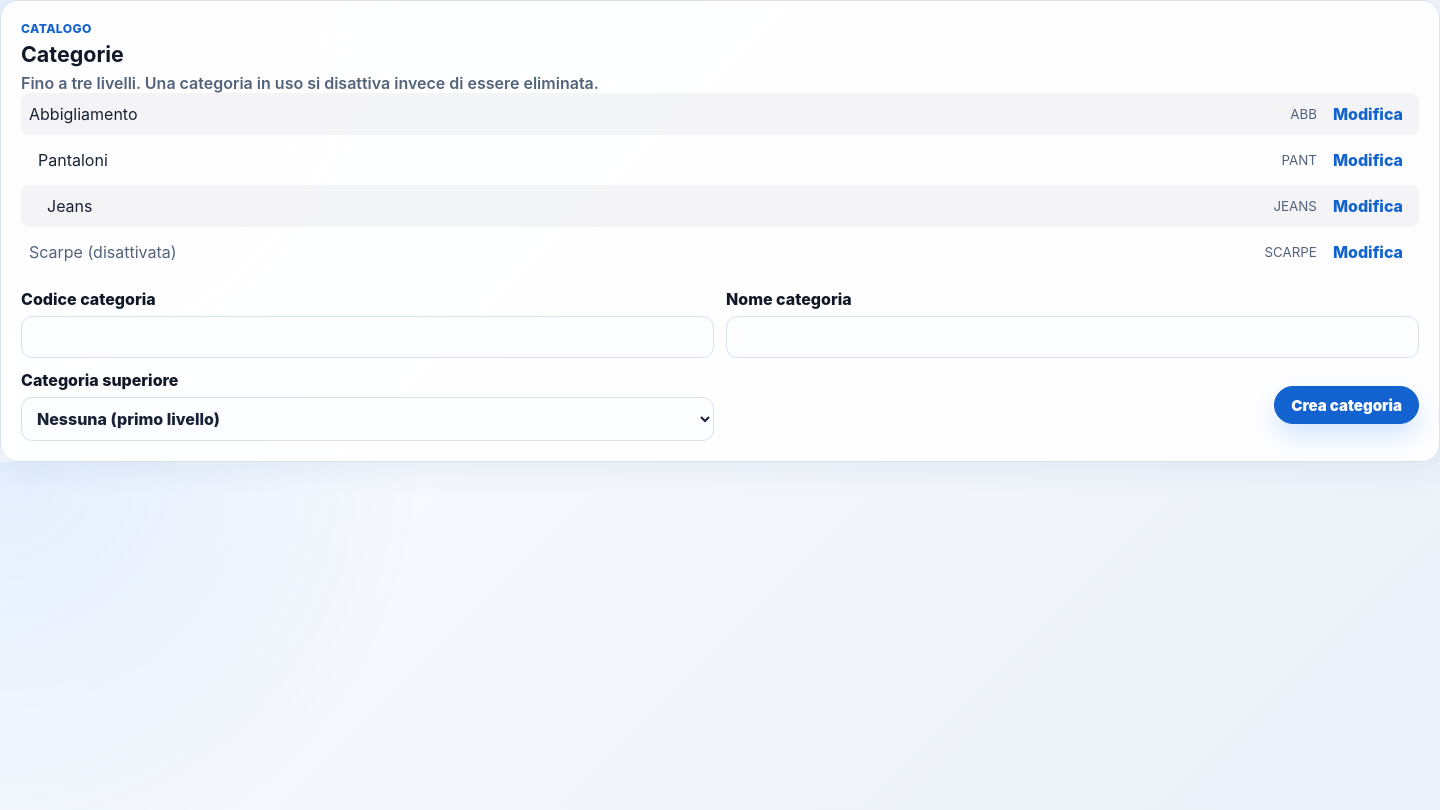
Scenario: CategoryManager › crea una sottocategoria e conferma con il percorso
Type "GONNE" into the field labelled "Codice categoria". click: (368, 337)
box: [21,316,714,358]
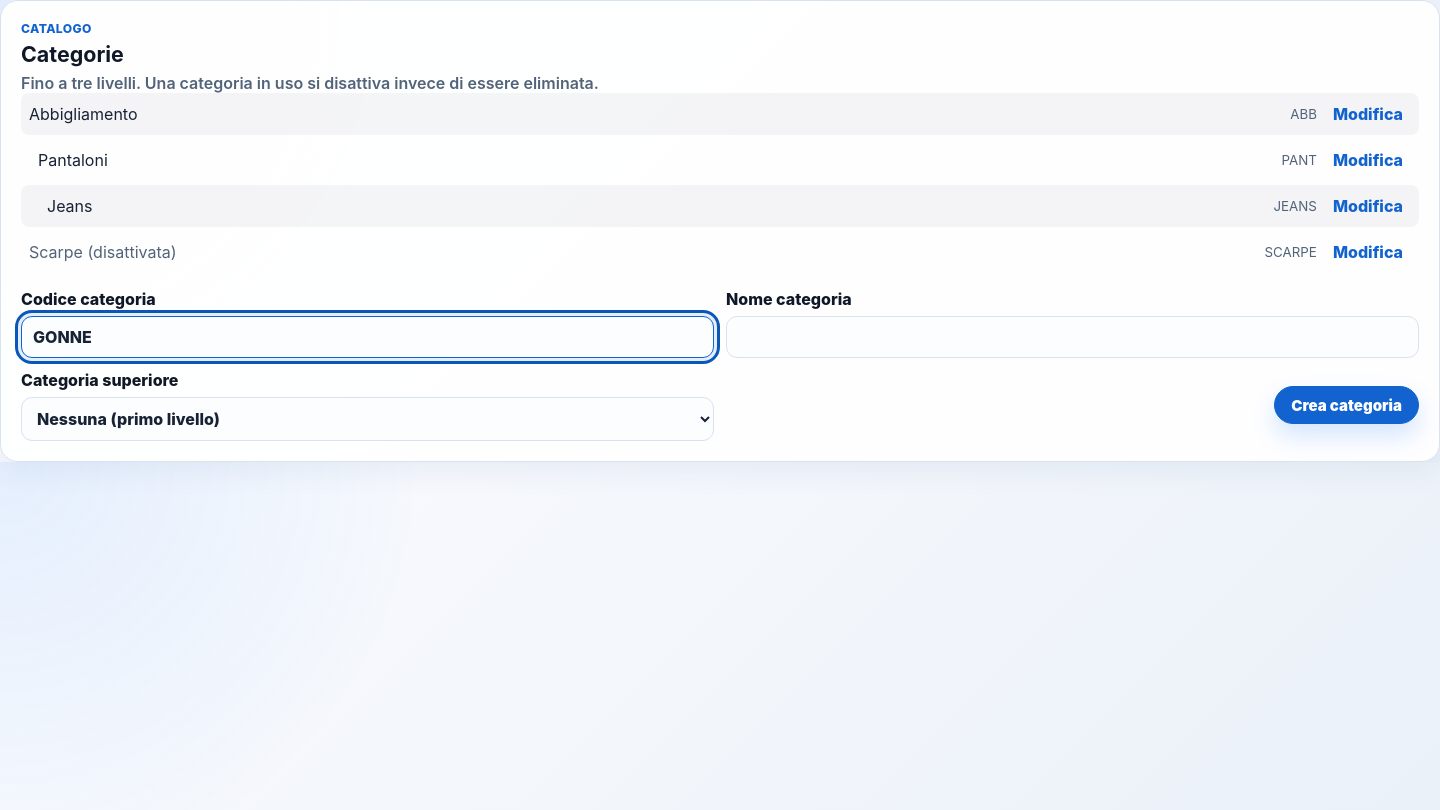
Type "Gonne" into the field labelled "Nome categoria". click: (1072, 337)
box: [726,316,1419,358]
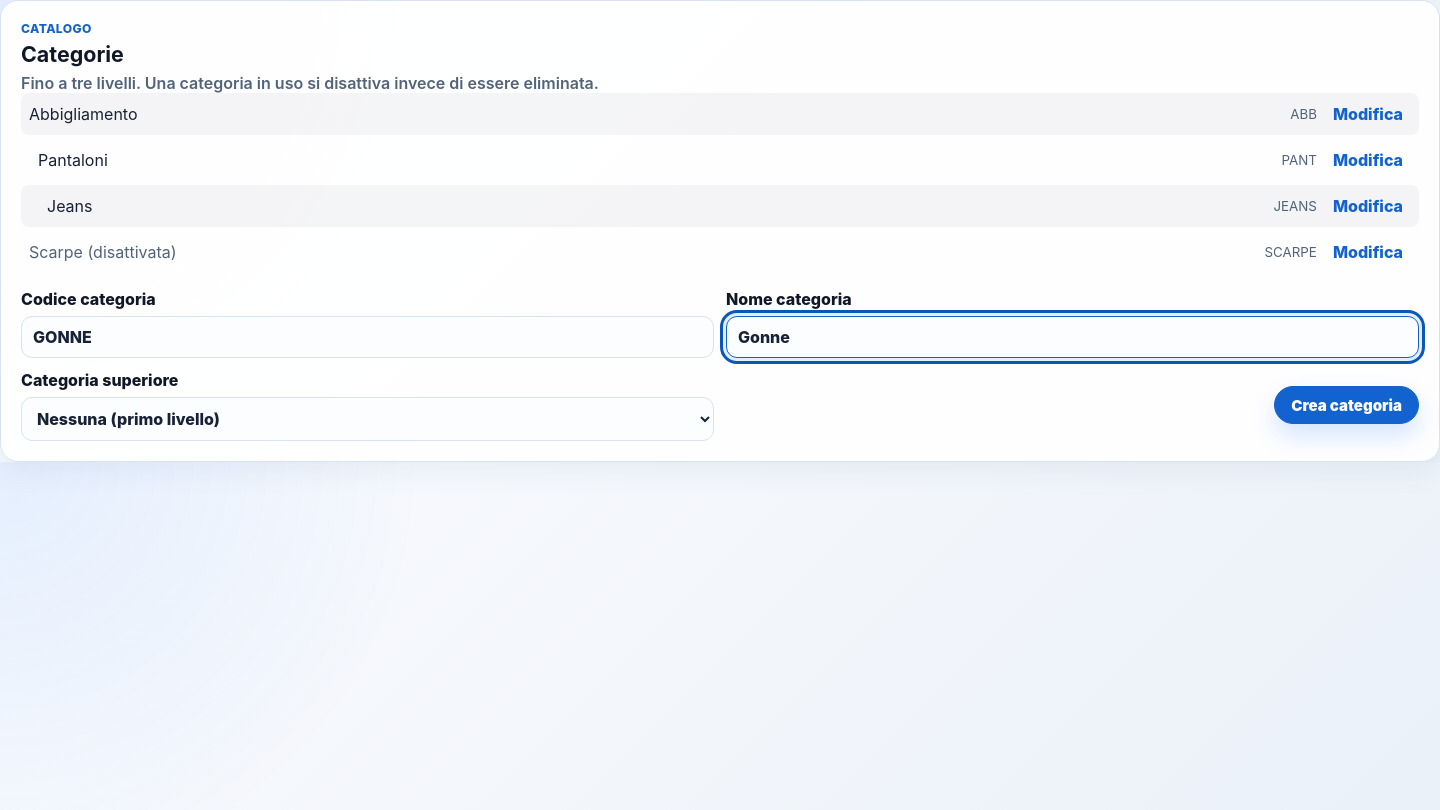
Select "Abbigliamento" in the dropdown labelled "Categoria superiore". click: (368, 419)
box: [21,397,714,441]
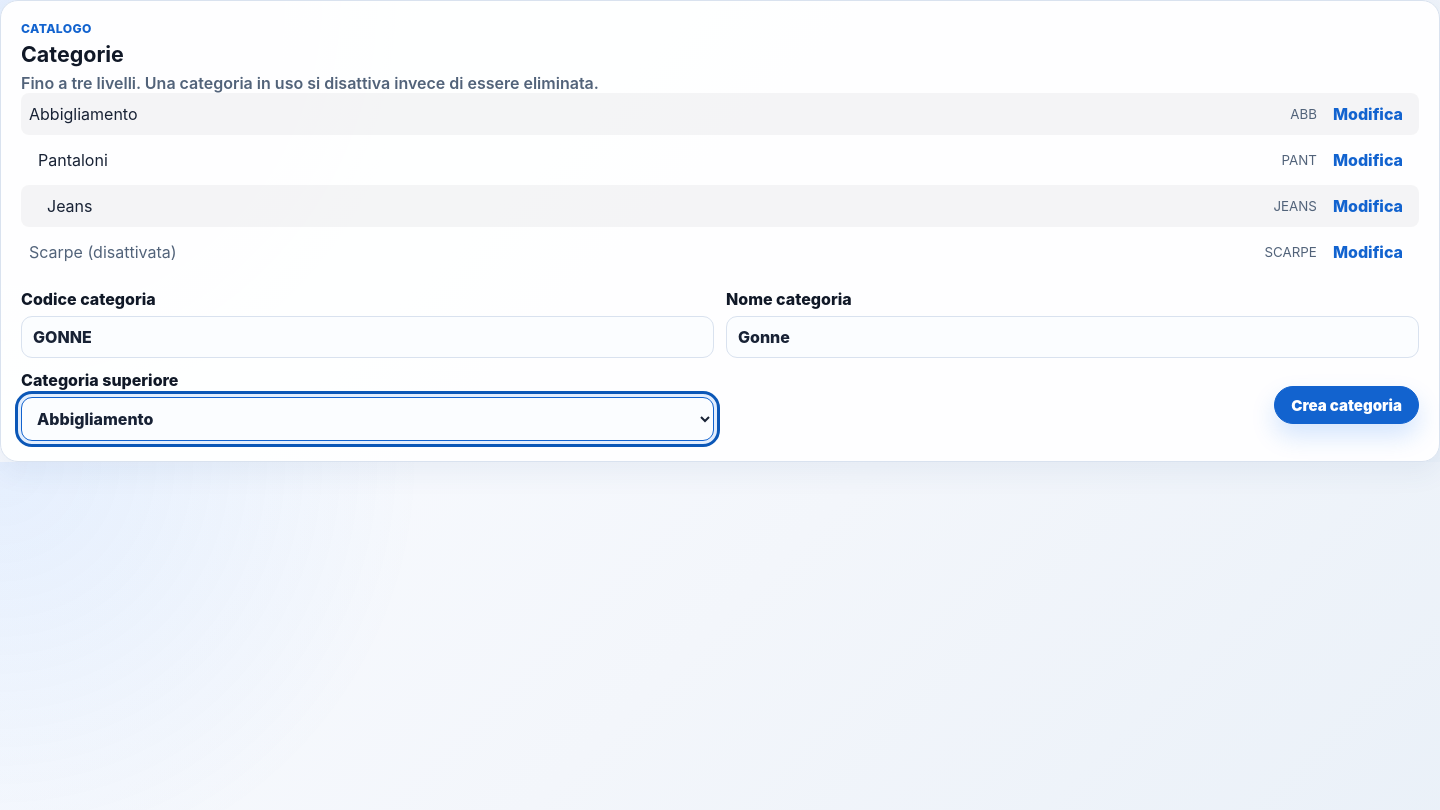
Click the button "Crea categoria". click: click(1347, 405)
box: [1274,386,1419,424]
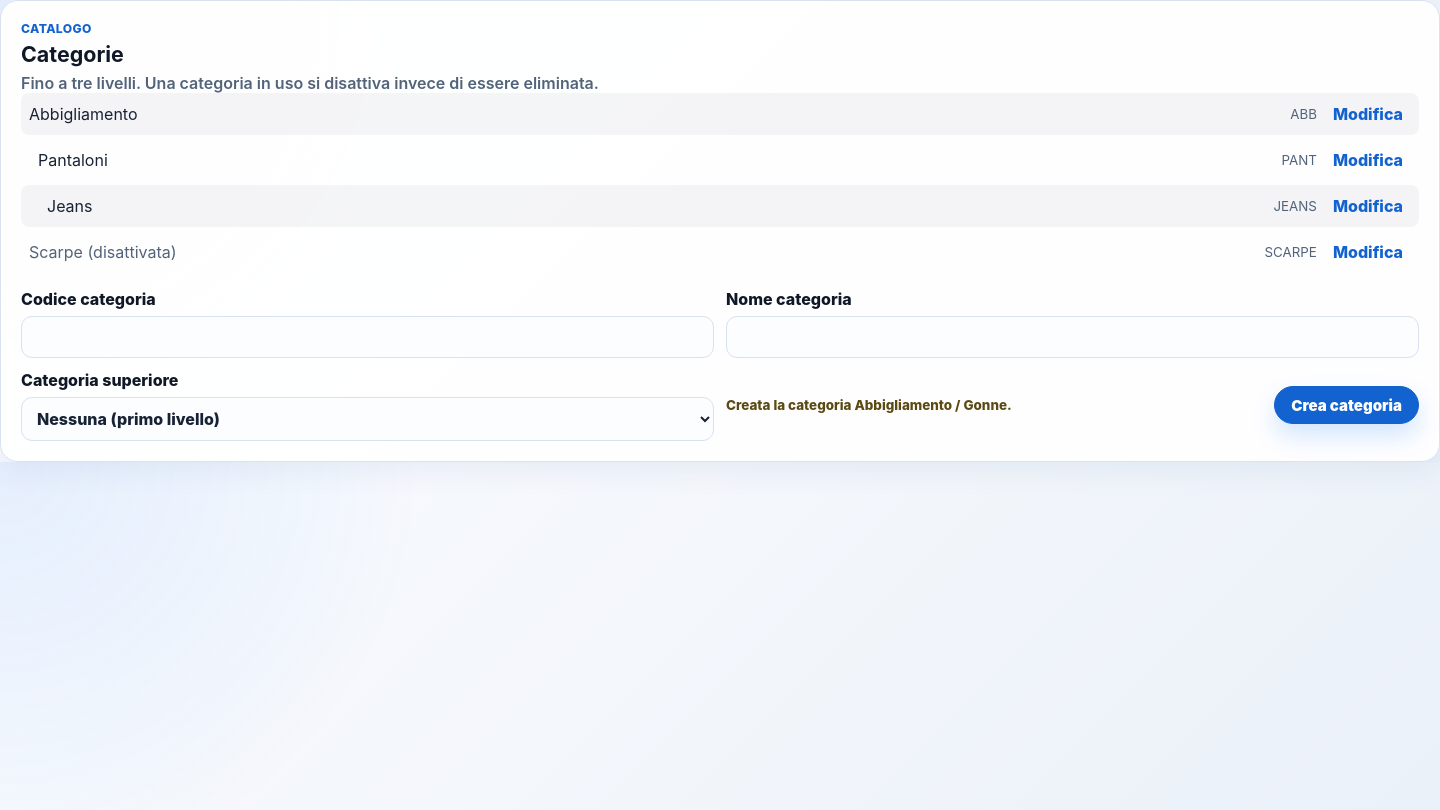
Expected: the message reads "Creata la categoria Abbigliamento / Gonne.", [726,397,1012,413]
Expected: the field labelled "Codice categoria" is empty, [21,316,714,358]
